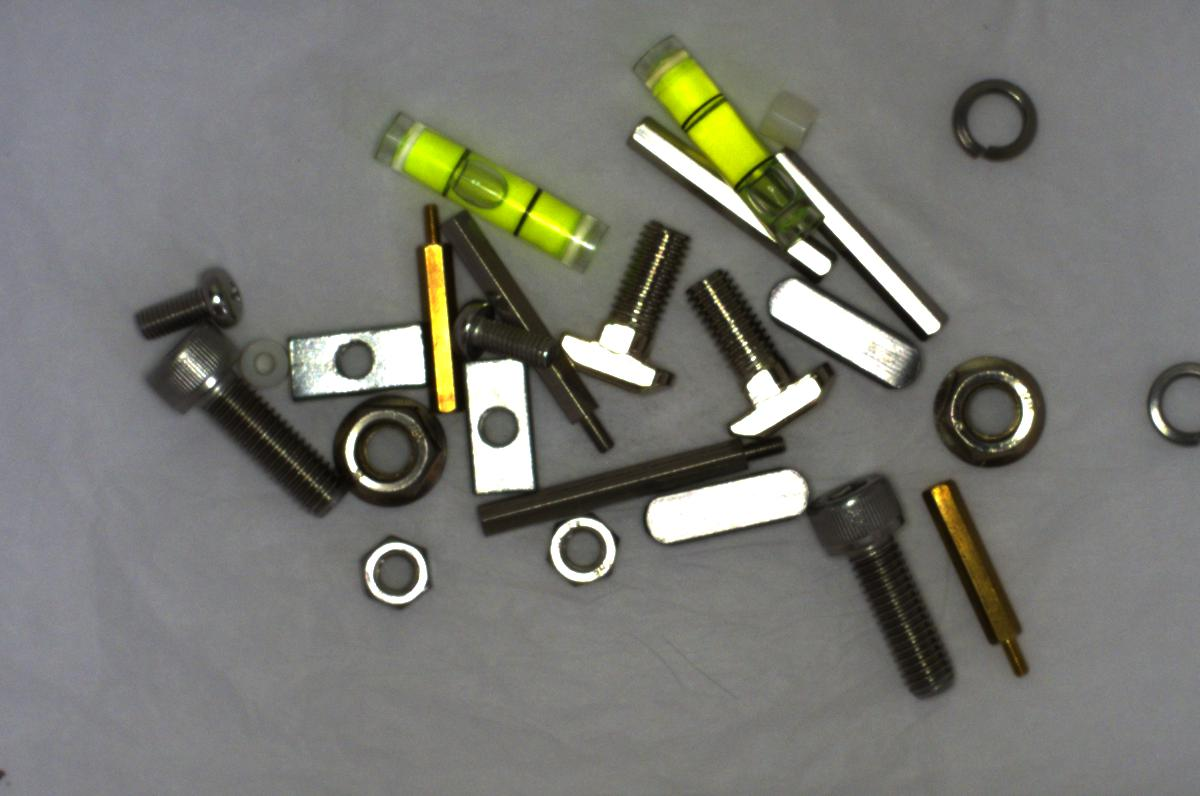Double hexagonal column: (771, 137, 952, 346), (617, 119, 838, 281)
Flange nut: (314, 389, 448, 514), (934, 342, 1056, 474)
Hexagon nut: (352, 530, 435, 610), (537, 509, 621, 587)
Hexagon pillar: (924, 477, 1042, 686), (408, 196, 483, 413)
Hexagon screw: (137, 321, 352, 518), (815, 469, 966, 706)
Hexagonal steel column: (441, 200, 616, 460), (470, 432, 808, 535)
Horizontal bubble: (360, 110, 605, 273), (634, 33, 770, 190)
Keybar: (762, 276, 926, 389), (642, 460, 821, 558)
Plastic cushion pillar: (755, 89, 824, 150), (233, 331, 287, 389)
Rectangular nut: (452, 350, 543, 500), (276, 317, 429, 392)
Round head screw: (126, 269, 256, 335), (448, 299, 558, 373)
Spring washer: (943, 63, 1043, 163), (1137, 345, 1198, 459)
T-shaped screw: (675, 268, 842, 437), (552, 213, 694, 401)
